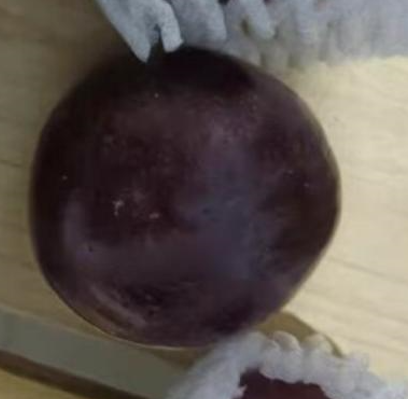plum_A: (28, 45, 341, 349)
